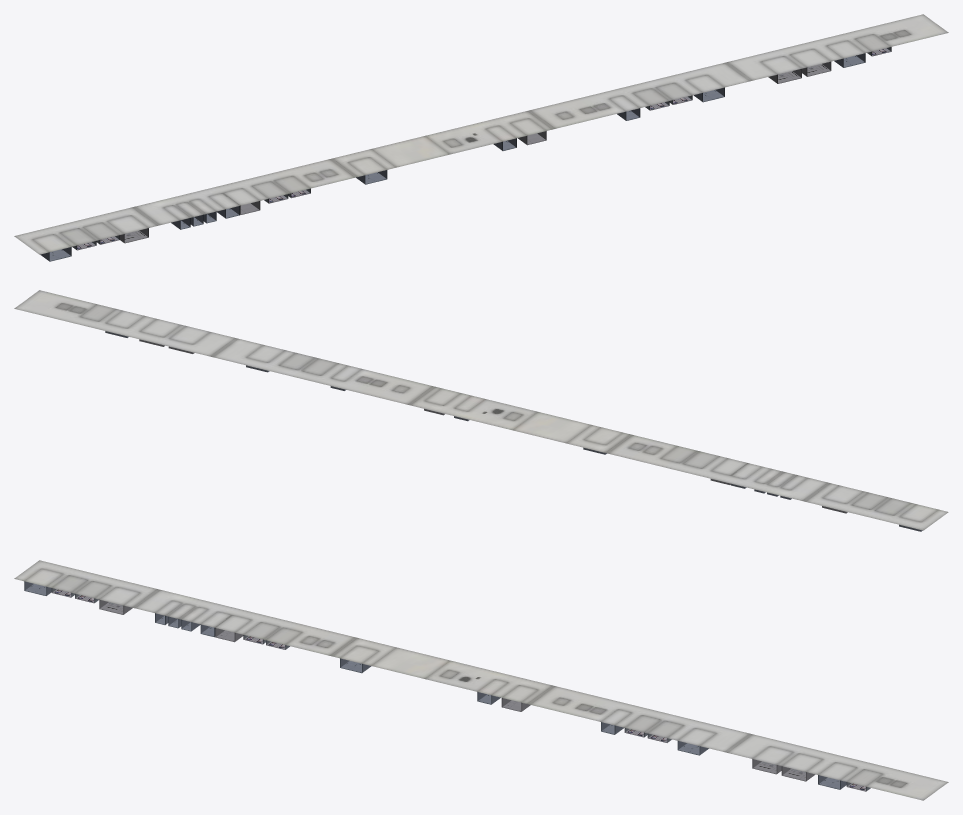
File: murhaut_av_bab.fbx
3 renders of one model, top to bottom at view 1: azimuth 30°, elevation 25°; view 2: azimuth 150°, elevation 25°; view 3: azimuth 330°, elevation 25°, orthographic.
Parts seen in each view (by area): view 1: ShapeIndexedFaceSet_004, ShapeIndexedFaceSet_005, ShapeIndexedFaceSet_001; view 2: ShapeIndexedFaceSet_004; view 3: ShapeIndexedFaceSet_004, ShapeIndexedFaceSet_005, ShapeIndexedFaceSet_001.
Boxes of the visible parts, left/top/right/bottom form: ShapeIndexedFaceSet_004: left=14, top=14, right=948, bottom=254; ShapeIndexedFaceSet_005: left=72, top=47, right=891, bottom=250; ShapeIndexedFaceSet_001: left=40, top=53, right=865, bottom=261; ShapeIndexedFaceSet_004: left=14, top=290, right=948, bottom=530; ShapeIndexedFaceSet_004: left=14, top=560, right=948, bottom=800; ShapeIndexedFaceSet_005: left=51, top=588, right=870, bottom=791; ShapeIndexedFaceSet_001: left=24, top=581, right=846, bottom=789.
Bounding box in the file's own units: 59.89 × 0.6 × 2.9.
